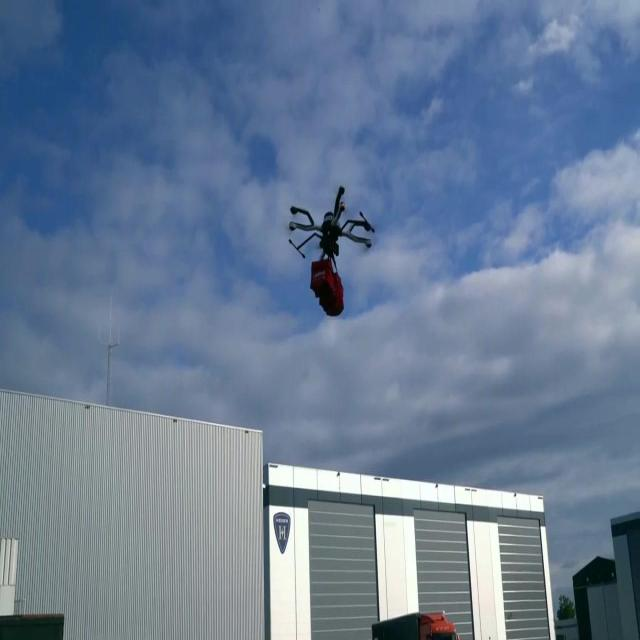drone: (287, 184, 376, 260)
